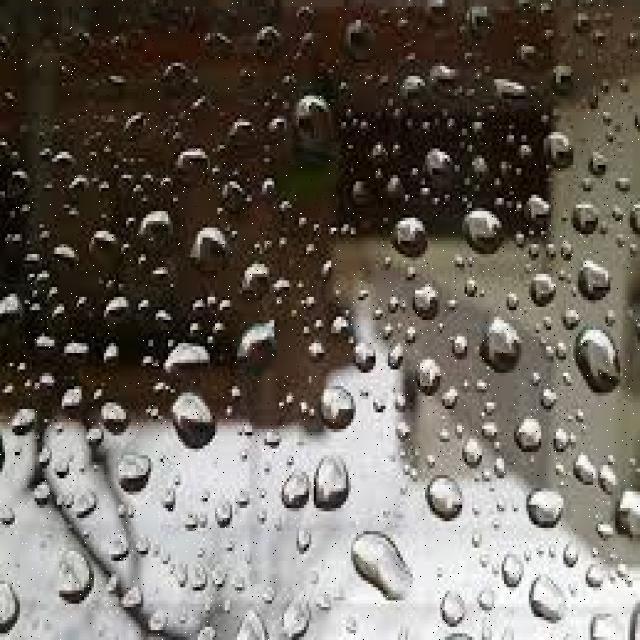raindrop: (337, 522, 420, 614), (568, 317, 626, 409), (154, 322, 222, 389), (164, 388, 224, 461), (228, 313, 288, 382), (52, 534, 101, 616), (288, 84, 338, 162), (472, 312, 524, 386), (516, 466, 567, 537), (182, 222, 234, 290), (534, 112, 582, 184), (458, 202, 509, 269), (522, 567, 571, 633), (313, 444, 359, 514), (316, 381, 364, 446), (508, 397, 551, 467), (384, 212, 436, 269), (414, 136, 462, 197), (272, 459, 318, 520), (231, 250, 275, 312), (88, 393, 142, 441), (114, 446, 160, 502), (424, 469, 469, 526), (407, 273, 449, 334), (515, 266, 565, 316), (614, 468, 640, 550), (398, 72, 436, 122), (412, 348, 446, 403)
